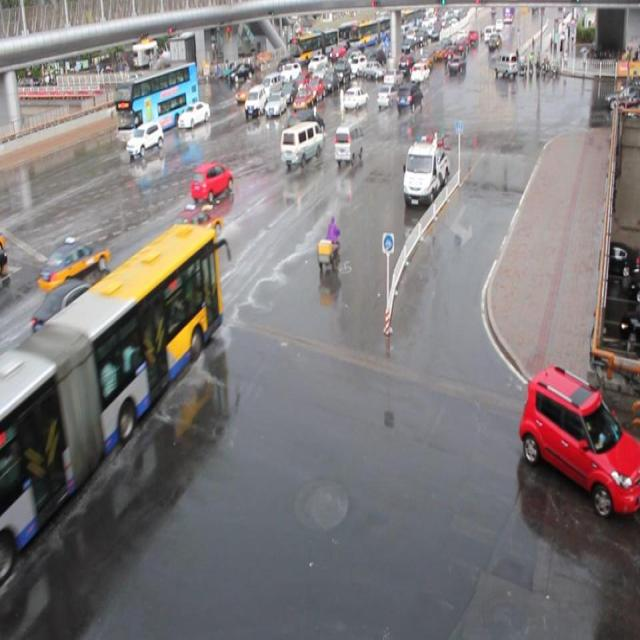bus: (402, 136, 448, 205)
car: (518, 363, 640, 514), (31, 279, 117, 359), (157, 202, 223, 266), (36, 236, 108, 291), (190, 160, 233, 203), (125, 120, 163, 156), (287, 108, 324, 144), (177, 101, 210, 128), (394, 81, 422, 112), (342, 85, 368, 109), (234, 79, 260, 102), (376, 83, 399, 107), (264, 91, 286, 116), (292, 86, 312, 112), (279, 80, 298, 103), (305, 77, 324, 100), (292, 72, 311, 93)
truck: (279, 120, 322, 166), (332, 120, 362, 166), (246, 84, 268, 116), (259, 72, 282, 98)
van: (1, 223, 222, 571), (115, 60, 199, 143)
